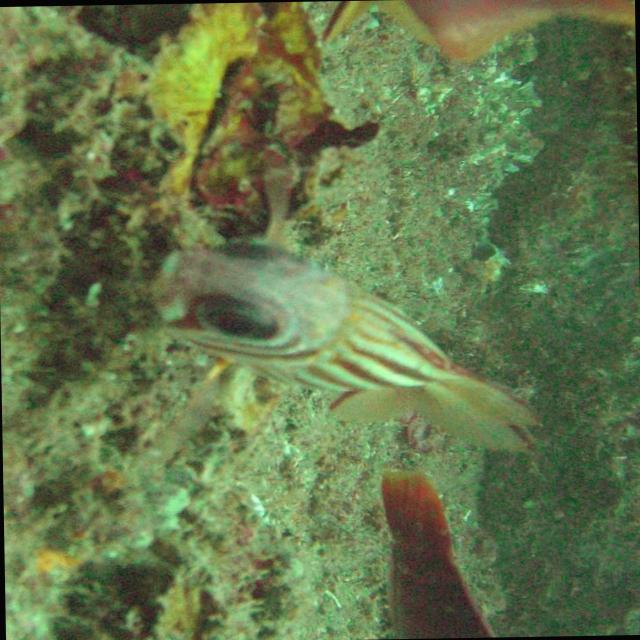Asker Baligi: (137, 220, 558, 483)
